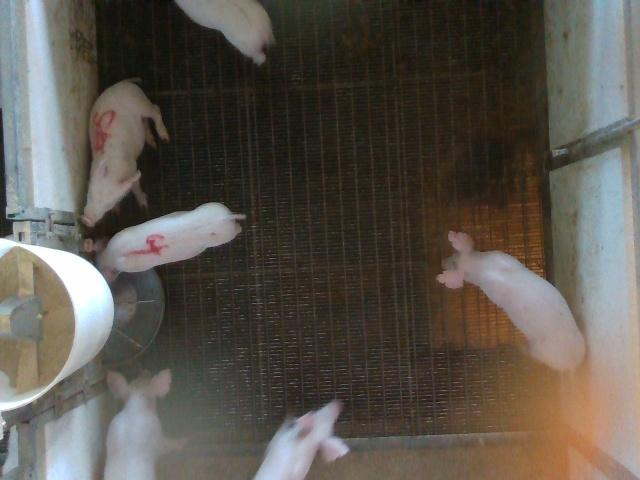pig-4: (85, 202, 245, 282)
pig-5: (81, 79, 170, 227)
